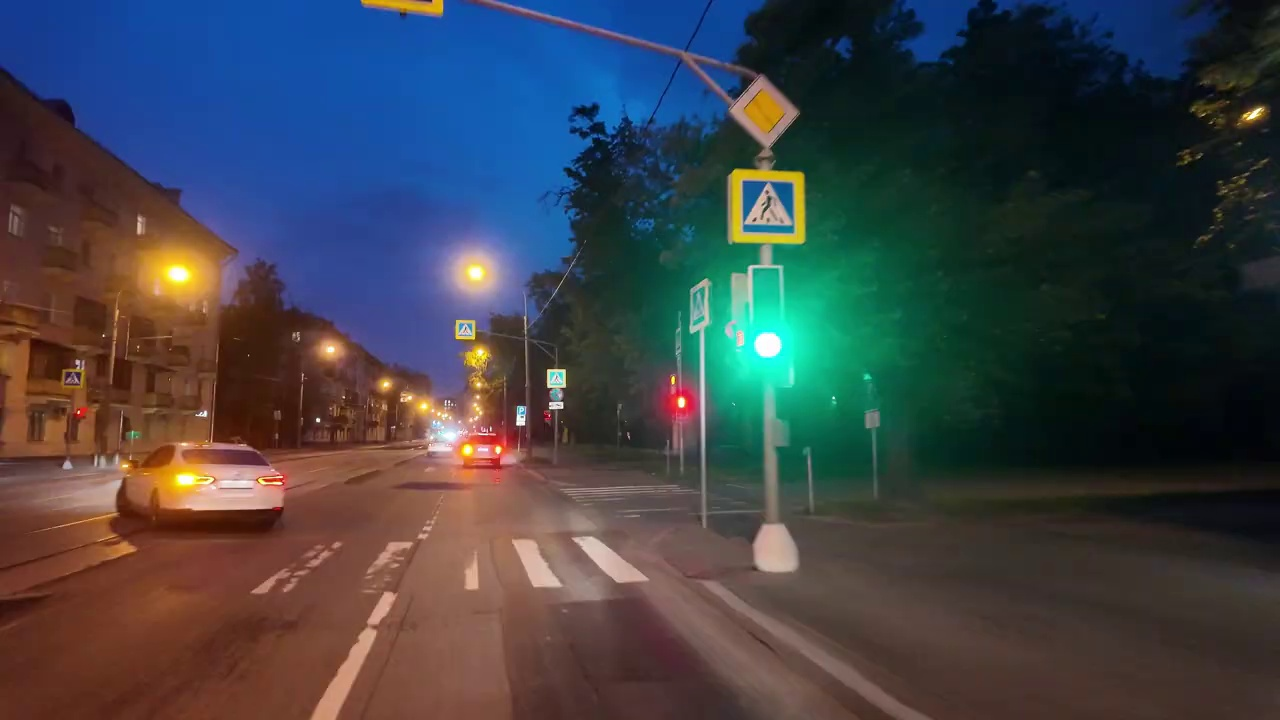acesa: (152, 254, 203, 300), (458, 256, 493, 291), (314, 336, 346, 365)
